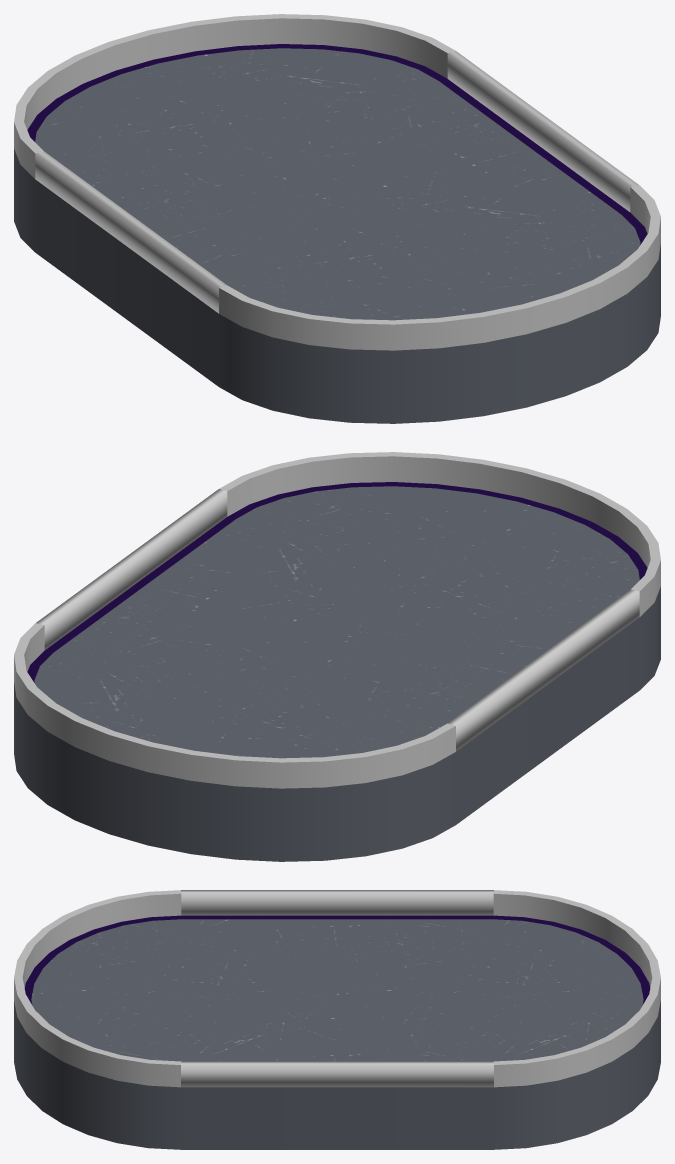
File: Duel_Stage 12.fbx
3 renders of one model, top to bottom at view 1: azimuth 30°, elevation 25°; view 2: azimuth 150°, elevation 25°; view 3: azimuth 270°, elevation 25°, orthographic. The views are drawn at different scales.
Visible parts, largest first — view 1: Cylinder.040 1, single_stage_12_half_circle_wall (1).001, single_stage_12_half_circle_wall (1).002; view 2: Cylinder.040 1, single_stage_12_half_circle_wall (1).001, single_stage_12_half_circle_wall (1).002; view 3: Cylinder.040 1, single_stage_12_half_circle_wall (1).001, single_stage_12_half_circle_wall (1).002.
Boxes of the visible parts, bbox=[...] form: Cylinder.040 1: bbox=[14, 48, 660, 423]; single_stage_12_half_circle_wall (1).001: bbox=[14, 14, 660, 350]; single_stage_12_half_circle_wall (1).002: bbox=[27, 44, 647, 244]; Cylinder.040 1: bbox=[14, 486, 660, 861]; single_stage_12_half_circle_wall (1).001: bbox=[14, 452, 660, 788]; single_stage_12_half_circle_wall (1).002: bbox=[27, 482, 647, 682]; Cylinder.040 1: bbox=[14, 919, 660, 1149]; single_stage_12_half_circle_wall (1).001: bbox=[14, 890, 660, 1087]; single_stage_12_half_circle_wall (1).002: bbox=[24, 915, 650, 1004].
Bounding box in the file's own units: 2401 × 542 × 3751.
